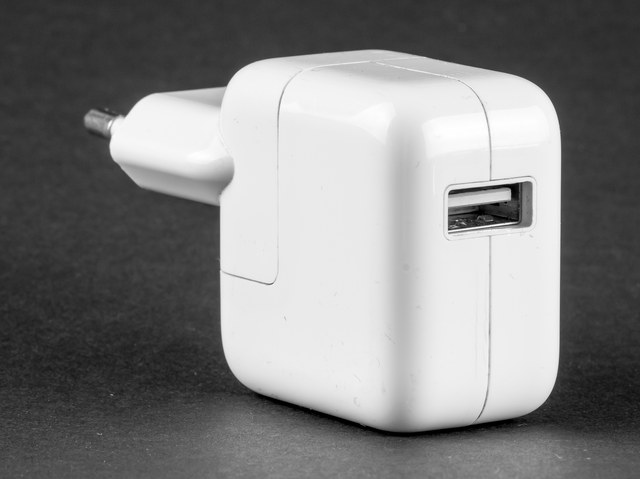Syska 20W Fast Charger: (32, 24, 608, 455)
